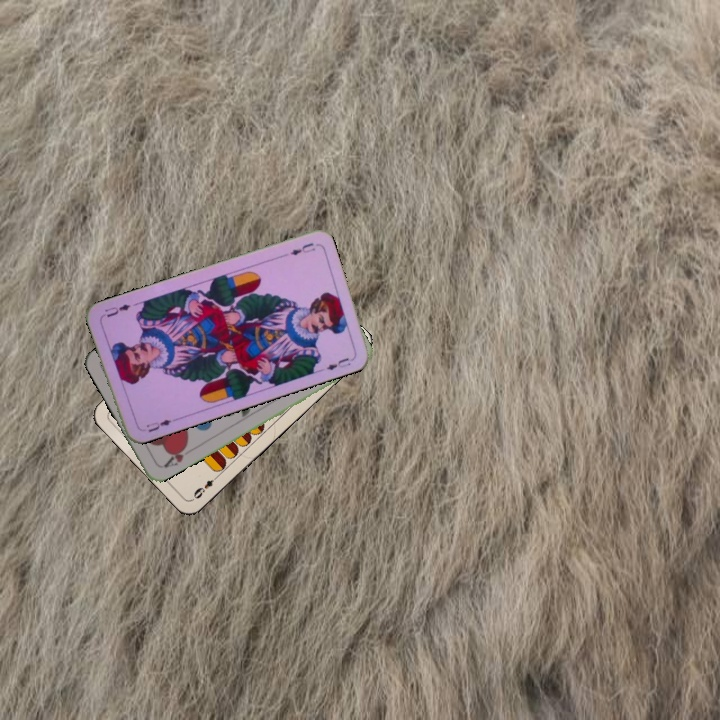E9: (189, 471, 221, 502)
EU: (142, 415, 178, 435), (286, 239, 317, 258)
HA: (160, 440, 191, 470)
